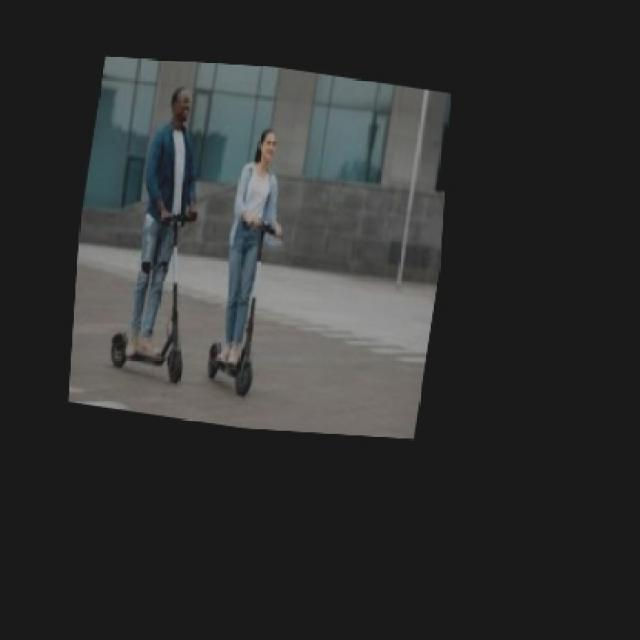bare_head: (247, 121, 294, 170), (167, 83, 198, 129)
human: (136, 77, 198, 355), (213, 112, 283, 352)
kickboard: (92, 327, 196, 396), (204, 339, 279, 406)
